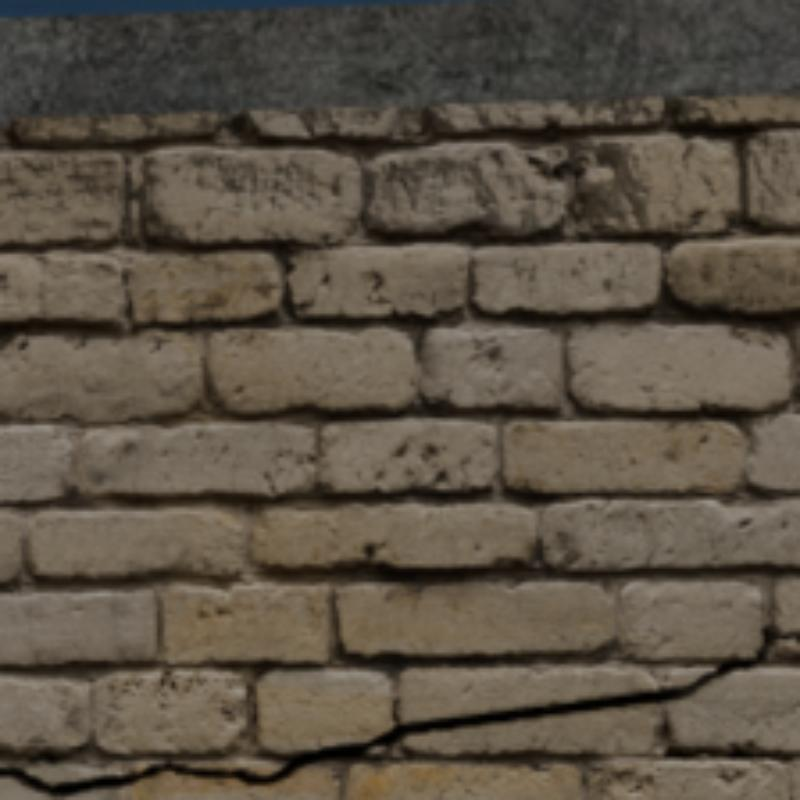pothole: (0, 625, 796, 793)
